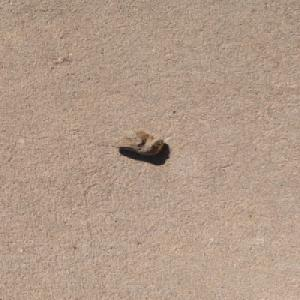Rock: (109, 129, 165, 155)
